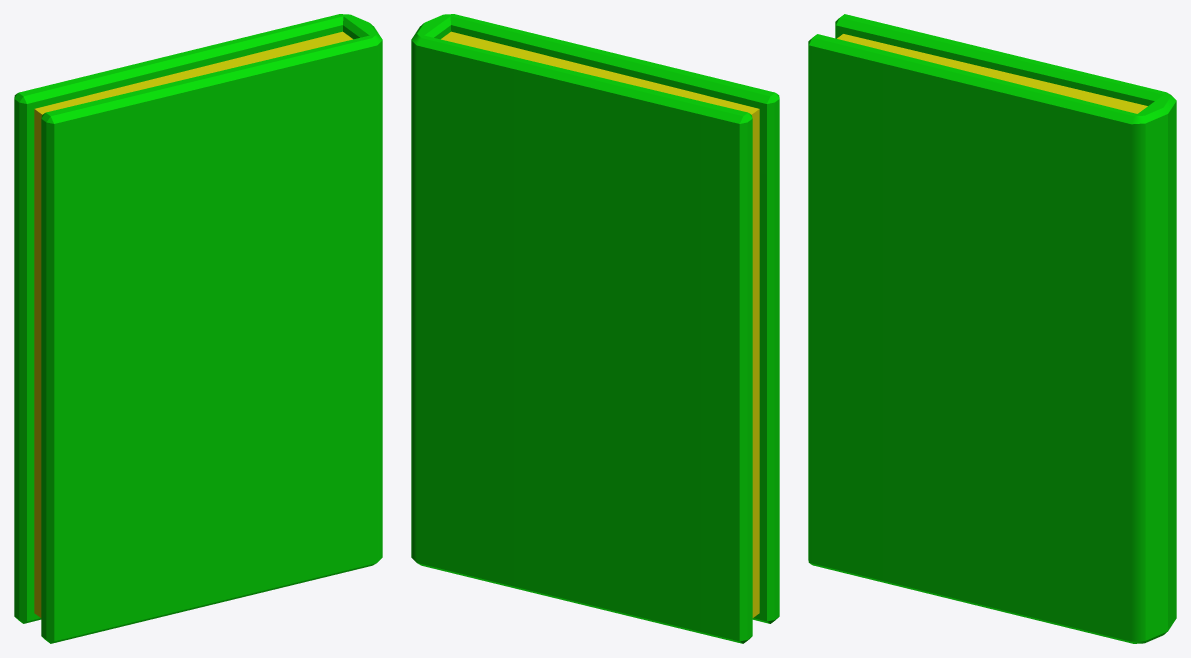
File: key_of_solomon.fbx
The picture shows the model from 3 angles, left to right: view 1: azimuth 30°, elevation 25°; view 2: azimuth 150°, elevation 25°; view 3: azimuth 330°, elevation 25°; orthographic projection.
Visible parts, largest first — view 1: key_of_solomon; view 2: key_of_solomon; view 3: key_of_solomon.
Boxes of the visible parts, left/top/right/bottom form: key_of_solomon: left=14, top=14, right=382, bottom=643; key_of_solomon: left=411, top=14, right=779, bottom=643; key_of_solomon: left=808, top=14, right=1176, bottom=643.
Bounding box in the file's own units: 2.07 × 3.04 × 0.417.
